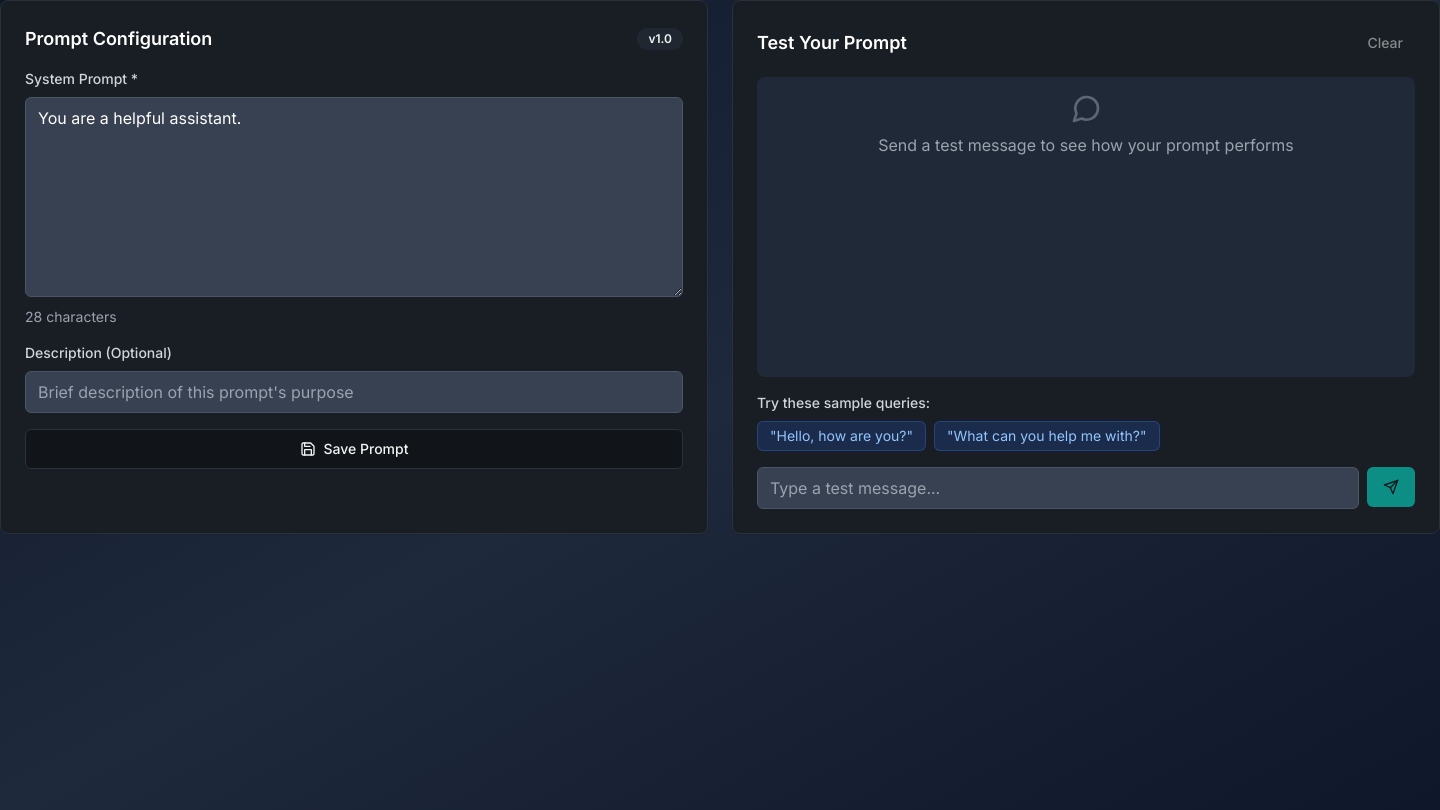
Test: PromptTestingWorkbench › displays and handles sample query clicks
Expected: the text "Try these sample queries:" is shown, [757,394,930,411]
Expected: the button "\"What can you help me with?\"" is shown, [934,421,1160,451]
Click on a sample query
Click the button with test id "sample-query-0". click: click(842, 436)
box: [757,421,926,451]
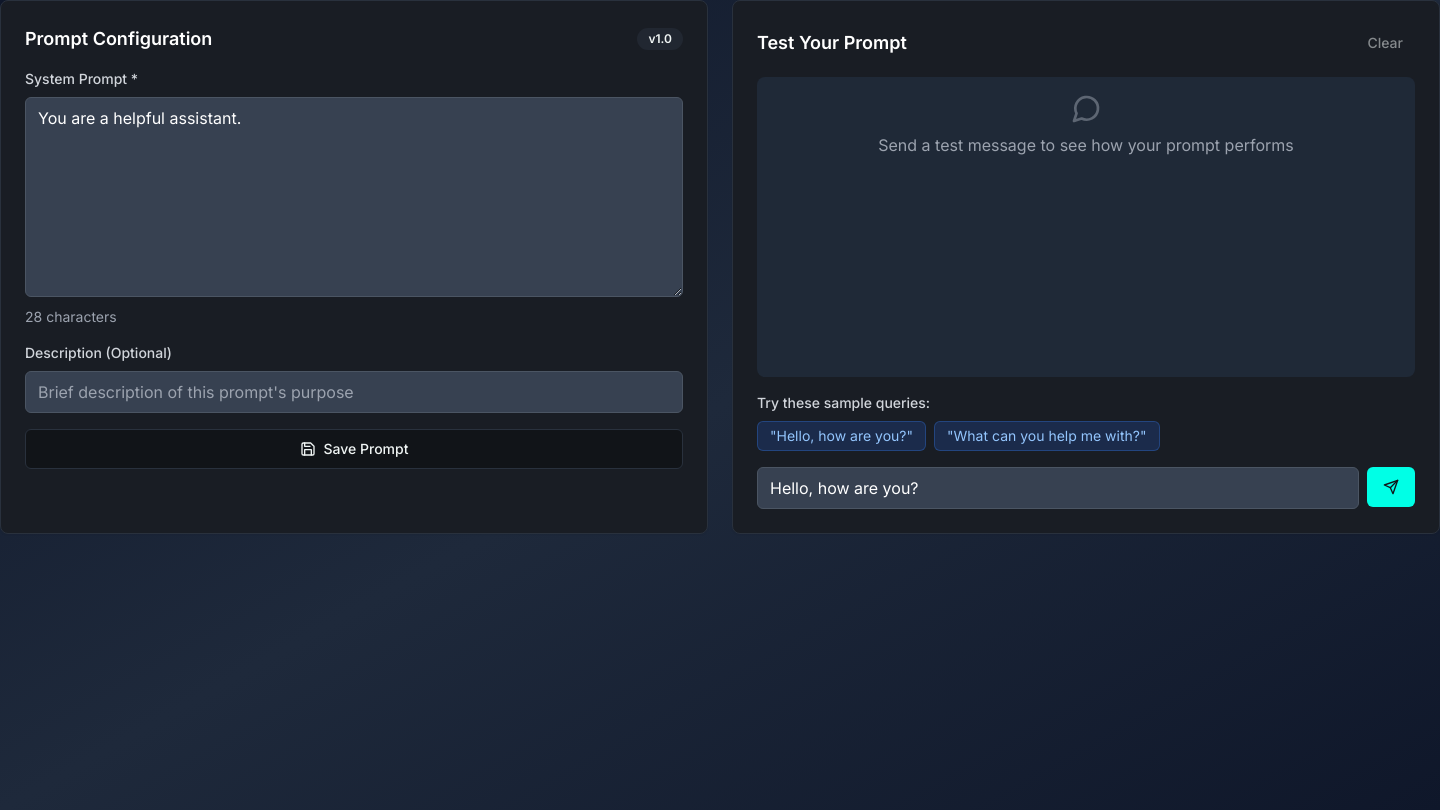
Result: the field with test id "test-message-input" holds "Hello, how are you?" at [757,467,1359,509]
